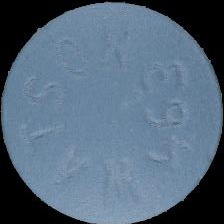0591-0463: (0, 0, 224, 224)
